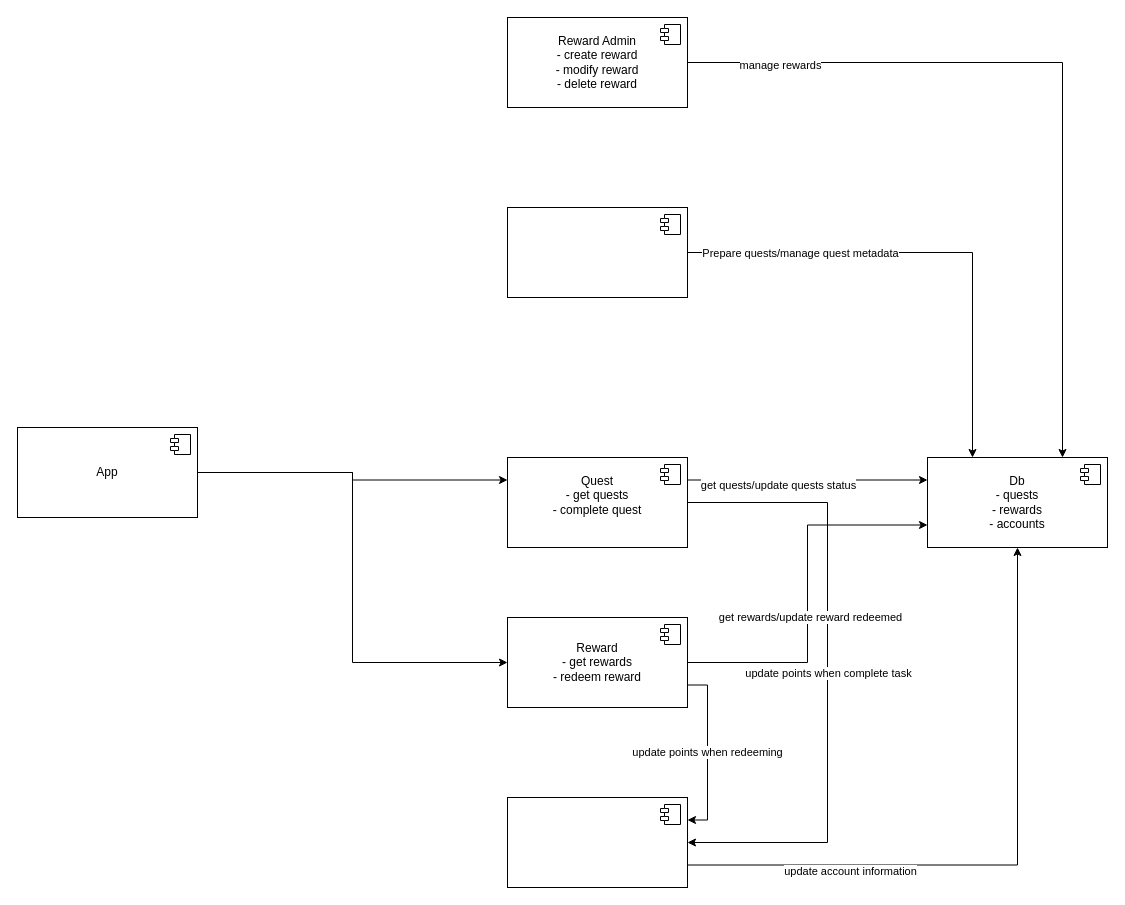
The diagram is 1125 pixels wide and 905 high, and some of its shapes have lost their labels. The centre of each missing label's shape, as x and y in pixels:
Account - get account info - add points - spend points: (x=597, y=842)
Quest Admin - create quest - modify quest - delete quest - prepare quests: (x=597, y=252)
